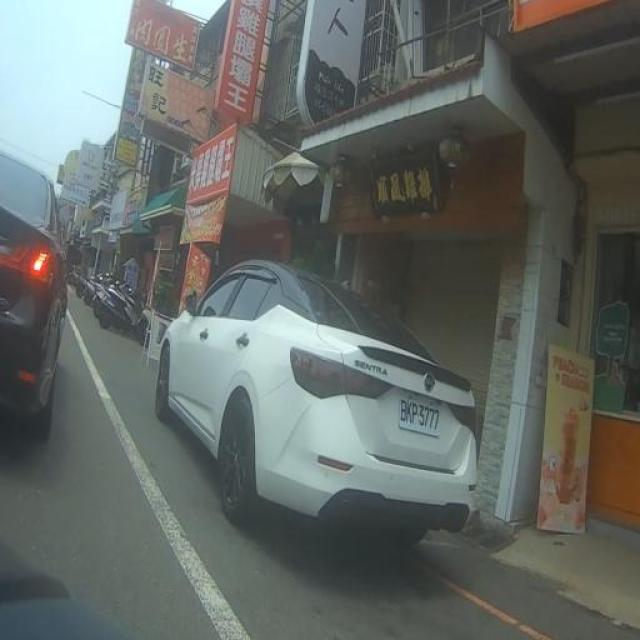Legalparking: (70, 263, 150, 343)
illegalparking: (156, 259, 479, 545)
